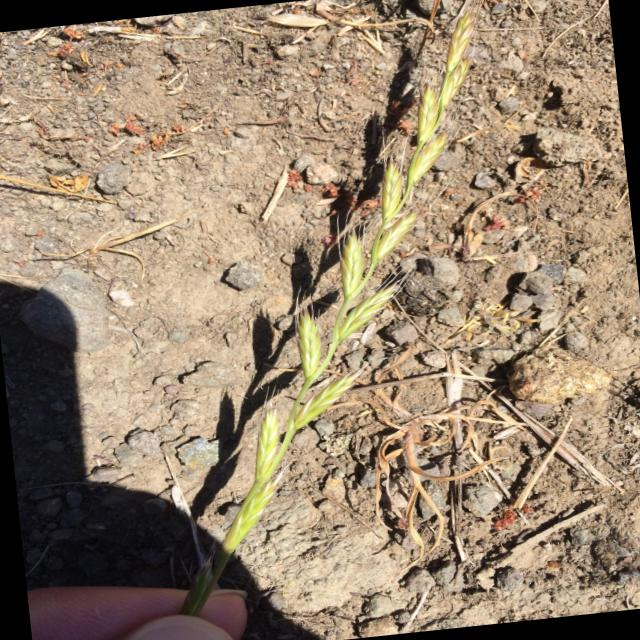Lolium: (115, 0, 548, 619)
